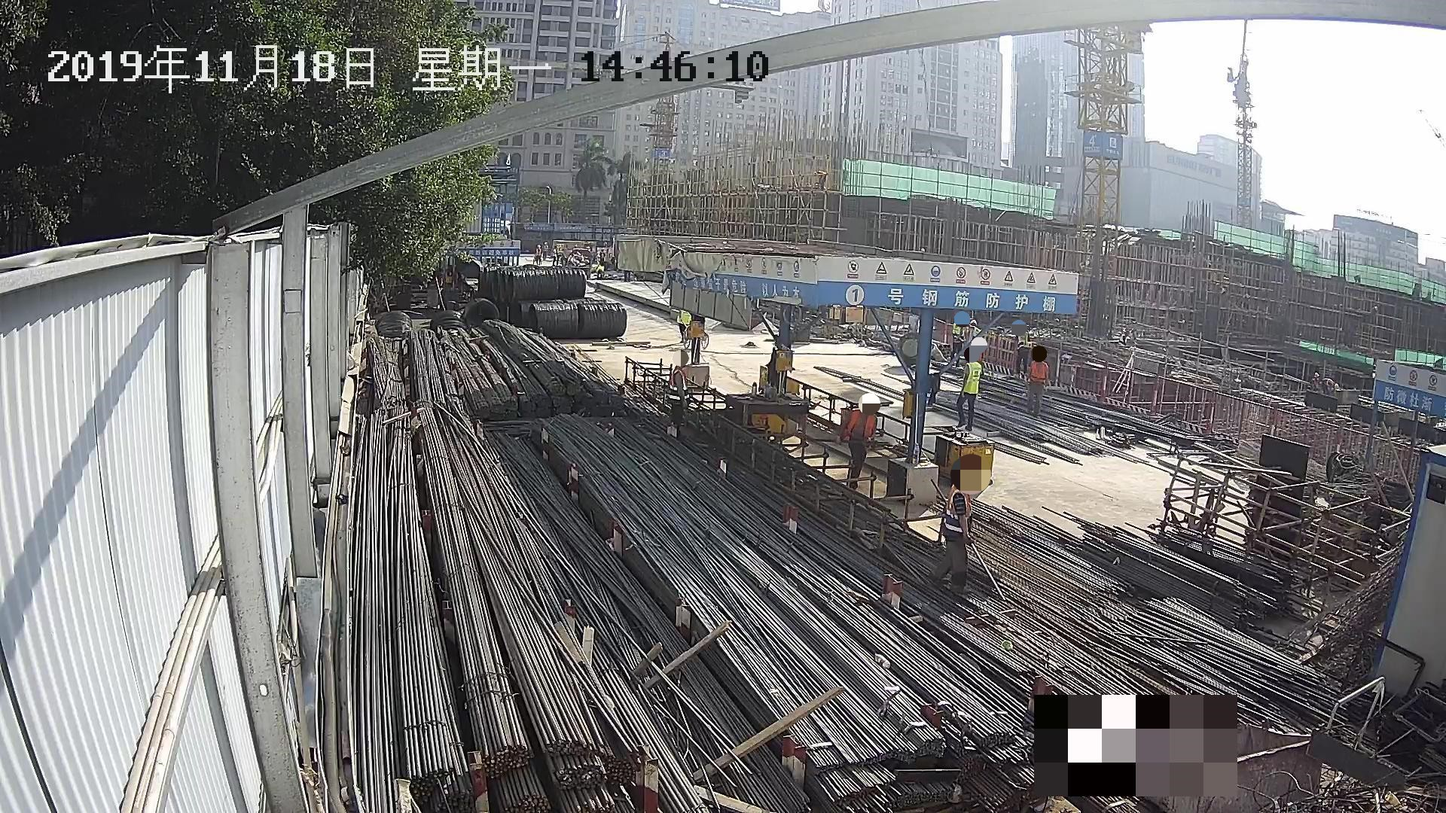hat: (957, 458, 986, 488), (860, 394, 877, 413), (673, 351, 688, 368), (1034, 346, 1047, 361), (966, 346, 978, 360)
person: (932, 456, 986, 594), (839, 392, 880, 488), (951, 346, 984, 430), (667, 349, 692, 431), (1023, 346, 1050, 416)
